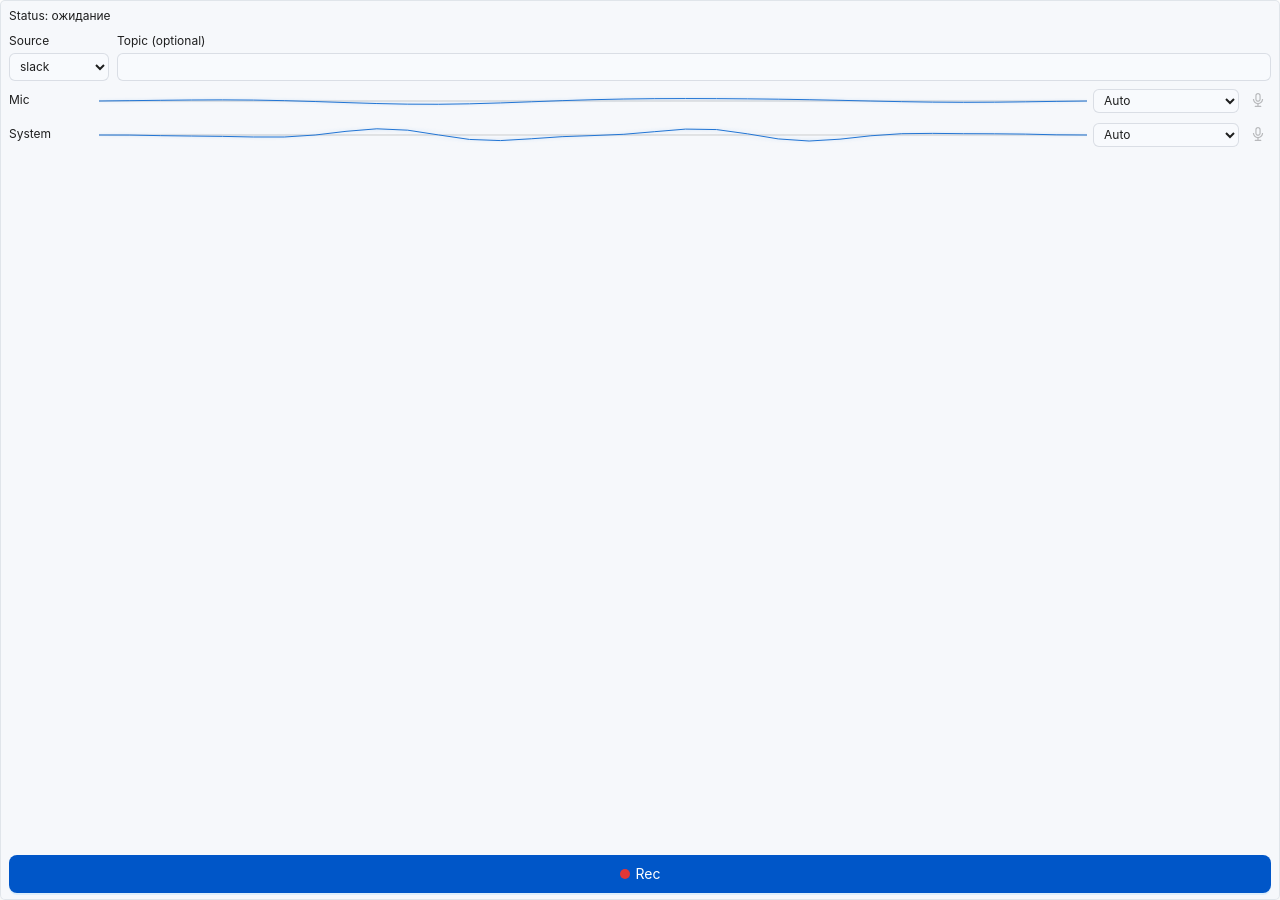
Tray window › keeps tray recording controls active when mute rpc fails
Click the button "Rec". click: (640, 874)
box: [9, 855, 1271, 893]
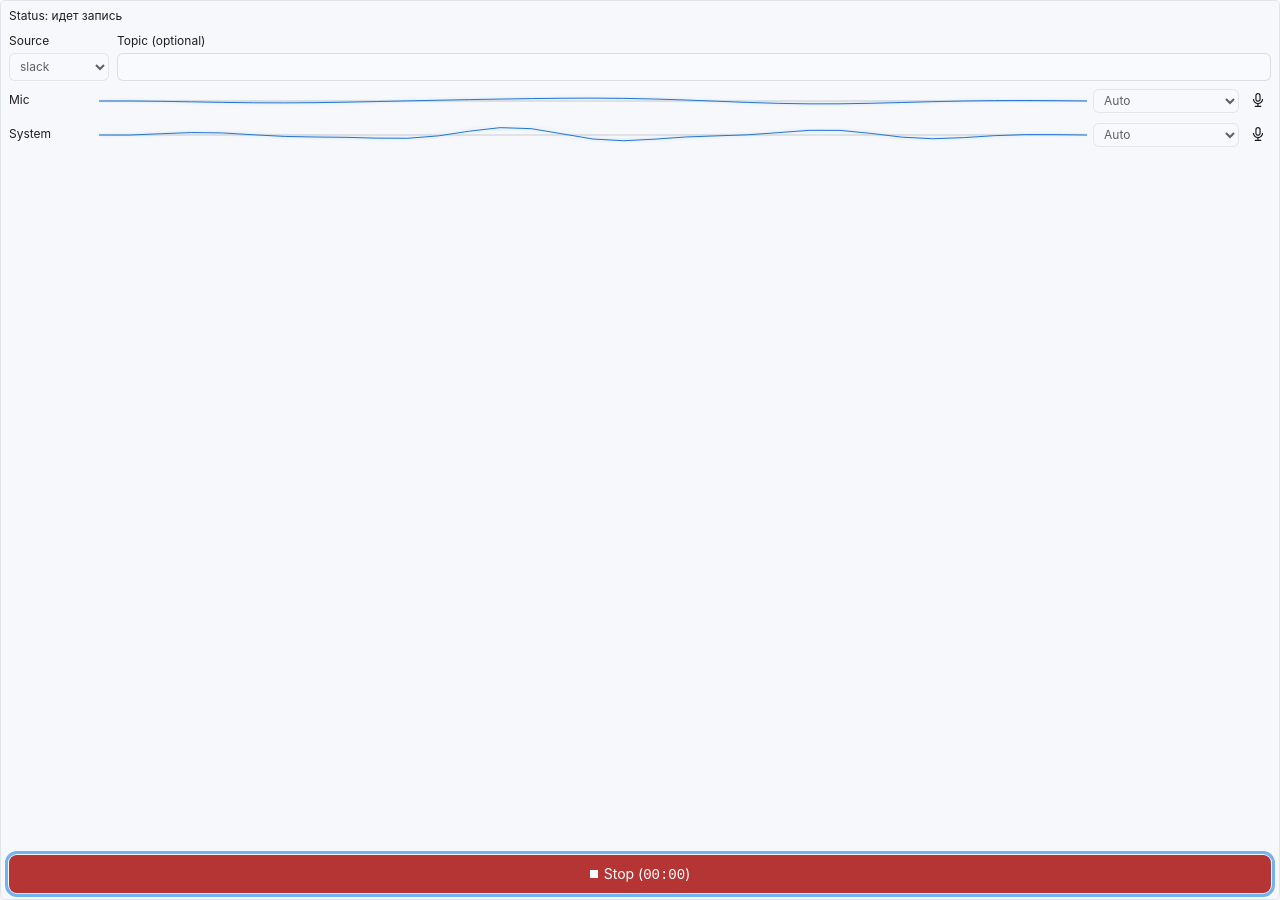
Click the button named "Mute microphone". click: (1258, 101)
box: [1245, 88, 1271, 114]
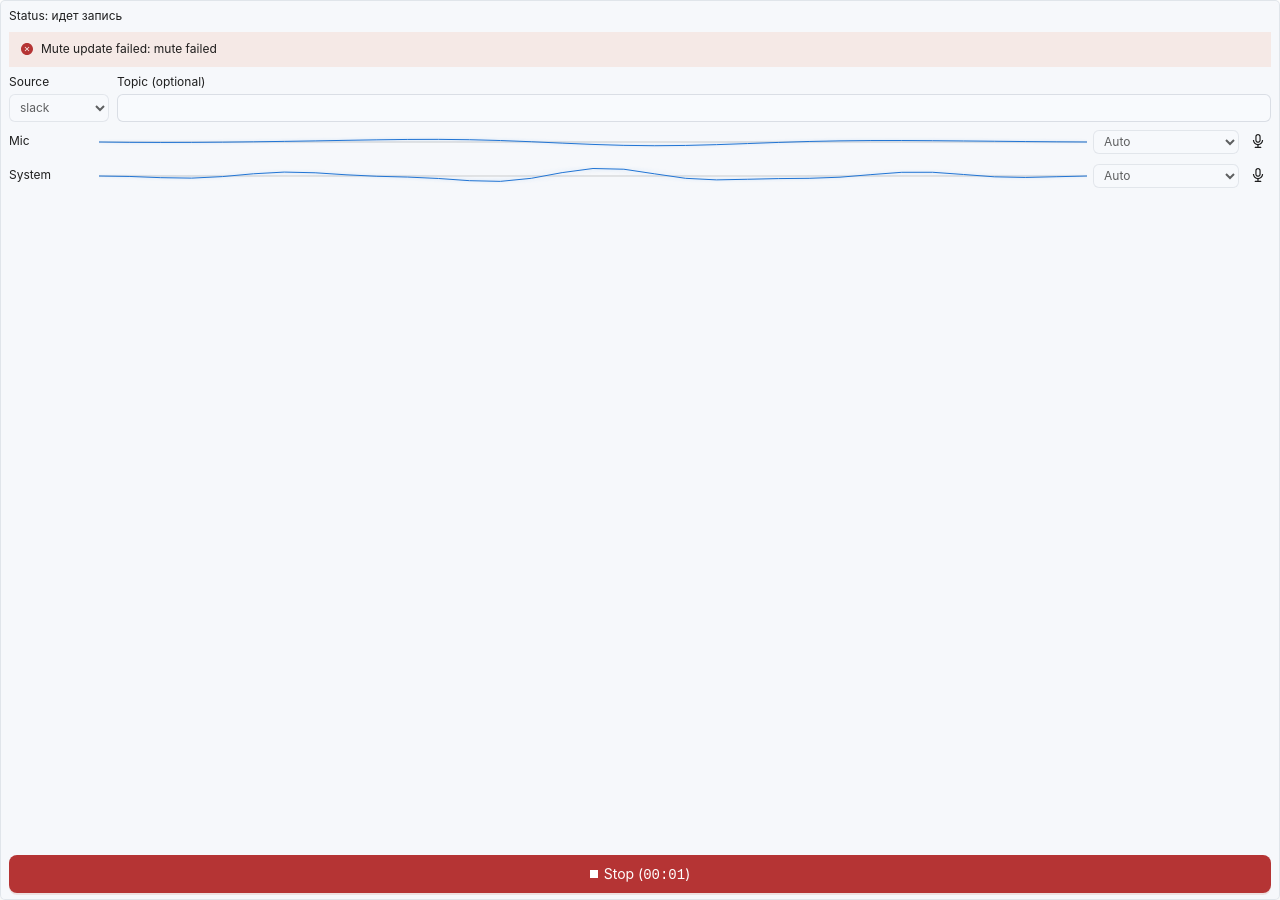
Check: the text "Status: идет запись" is shown, box [9, 7, 122, 26]
Check: the button named "Mute microphone" is enabled, box [1245, 128, 1271, 154]
Check: the text "Mute update failed: mute failed" is shown, box [41, 41, 217, 56]
